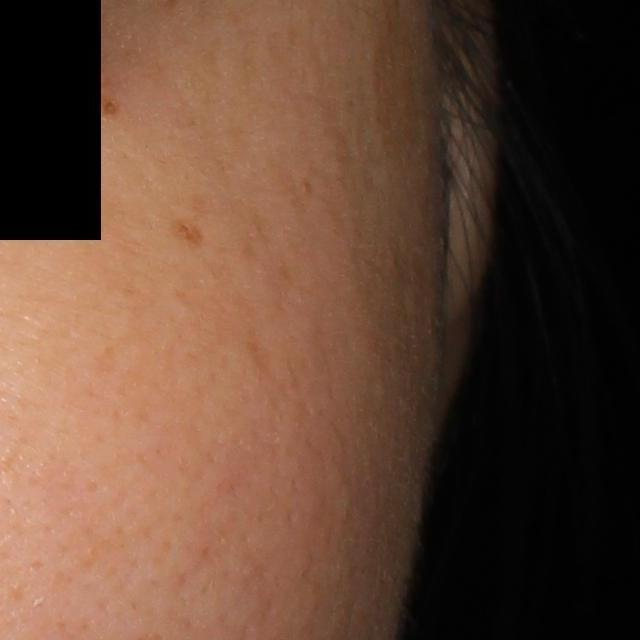melasma: (374, 4, 416, 161), (169, 216, 202, 251)
